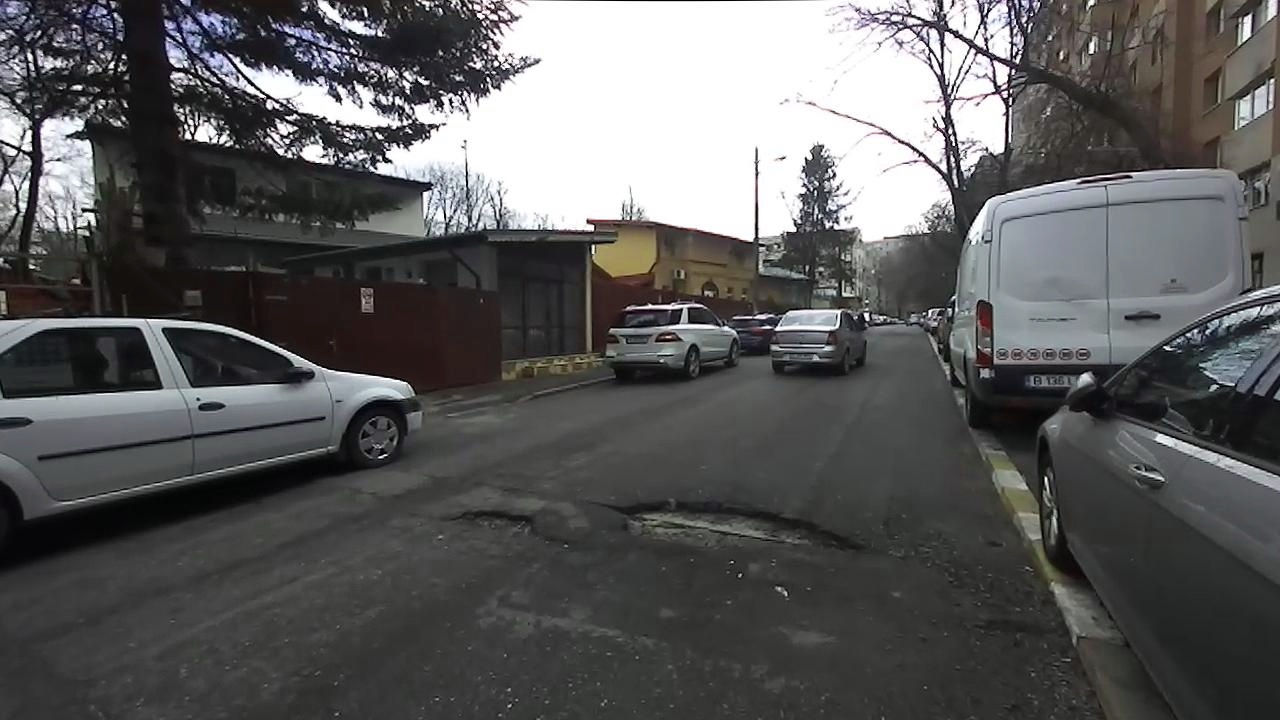pothole: (589, 496, 873, 563), (437, 503, 569, 546)
